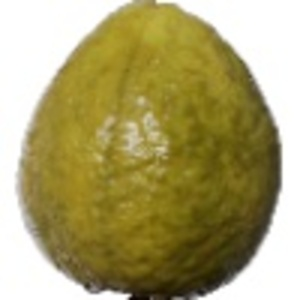goiaba: (9, 5, 286, 291)
